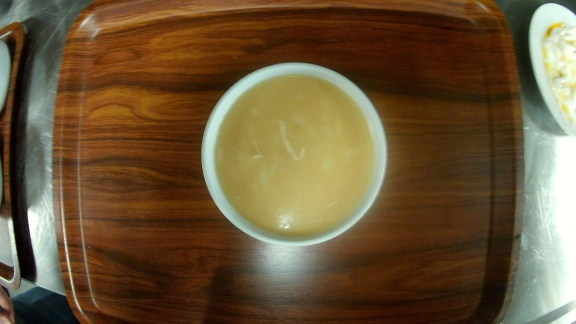tavukcorba: (197, 61, 390, 247)
